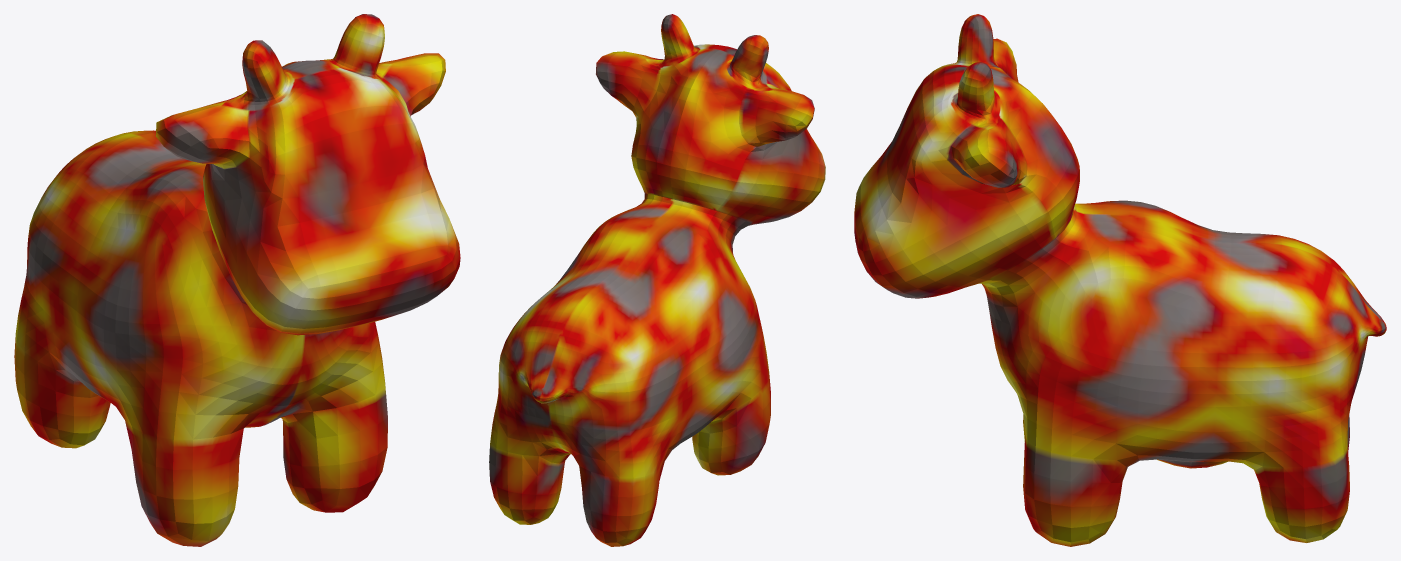
Rendered from meshnca_t2.glb.
The picture shows the model from 3 angles, left to right: view 1: azimuth 30°, elevation 25°; view 2: azimuth 150°, elevation 25°; view 3: azimuth 270°, elevation 25°; orthographic projection. The views are drawn at different scales.
Parts seen in each view (by area): view 1: geometry_0; view 2: geometry_0; view 3: geometry_0.
Boxes of the visible parts, box(x1,y1,x2,y2) form: geometry_0: box(14, 14, 460, 546); geometry_0: box(489, 14, 825, 546); geometry_0: box(854, 14, 1386, 546).
Size of the model in its own units: 0.871 by 1.56 by 1.59.
